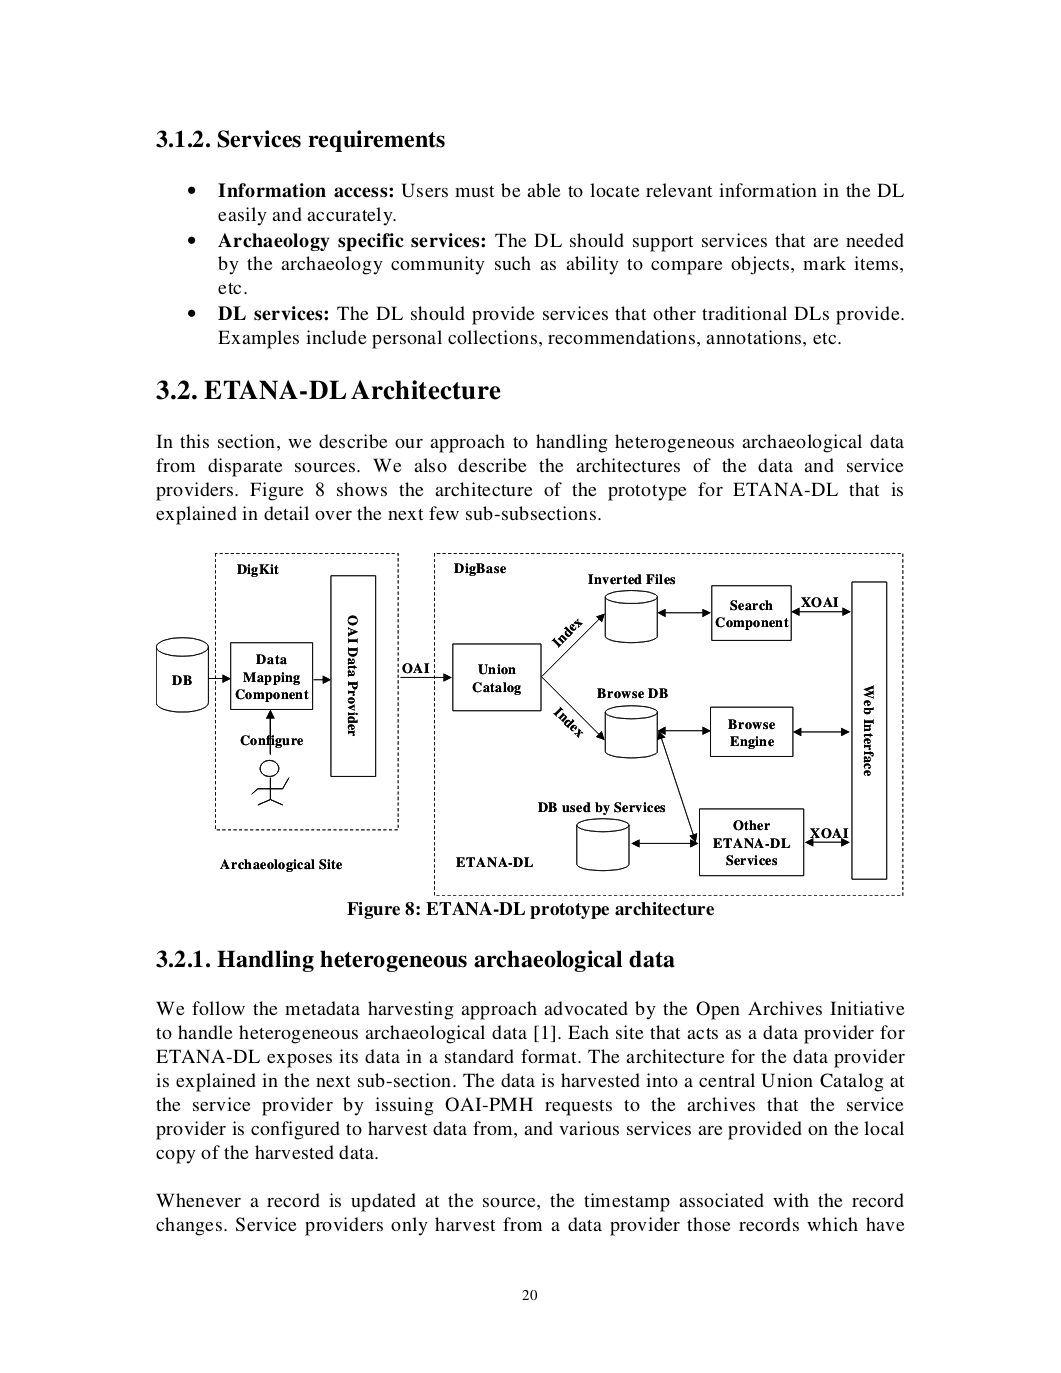figure: (156, 552, 903, 890)
